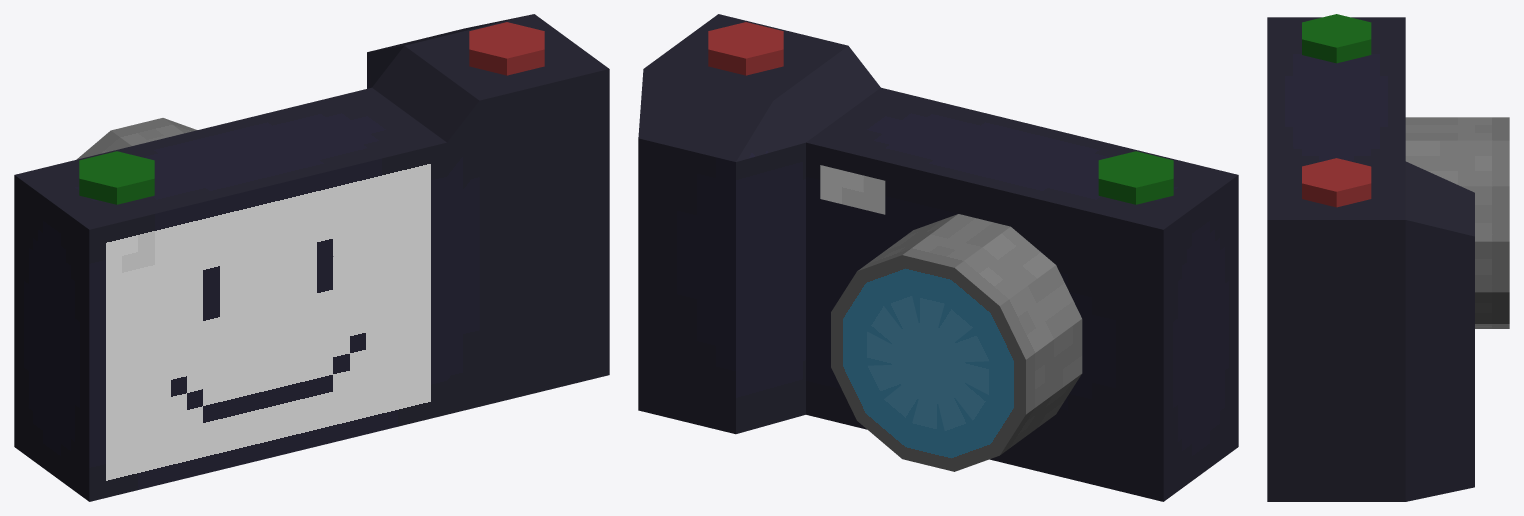
File: Camera.gltf
3 renders of one model, left to right at view 1: azimuth 30°, elevation 25°; view 2: azimuth 150°, elevation 25°; view 3: azimuth 270°, elevation 25°, orthographic. The views are drawn at different scales.
Parts seen in each view (by area): view 1: Body, Shoot, Focus, Lens; view 2: Body, Lens, Focus, Shoot, cam; view 3: Body, Lens, Shoot, Focus.
Part boxes in pixels (x1=…): Body: x1=14, y1=14, x2=609, y2=501; Shoot: x1=469, y1=22, x2=544, y2=75; Focus: x1=79, y1=151, x2=154, y2=204; Lens: x1=76, y1=118, x2=197, y2=159; Body: x1=638, y1=14, x2=1238, y2=501; Lens: x1=831, y1=214, x2=1082, y2=471; Focus: x1=1098, y1=151, x2=1173, y2=204; Shoot: x1=708, y1=22, x2=783, y2=75; cam: x1=820, y1=165, x2=885, y2=214; Body: x1=1267, y1=17, x2=1474, y2=501; Lens: x1=1405, y1=117, x2=1509, y2=328; Shoot: x1=1302, y1=158, x2=1371, y2=207; Focus: x1=1302, y1=14, x2=1371, y2=63.
Bounding box in the file's own units: 1 × 0.5938 × 0.4375.
Materials: 1 (1 with a texture image).
